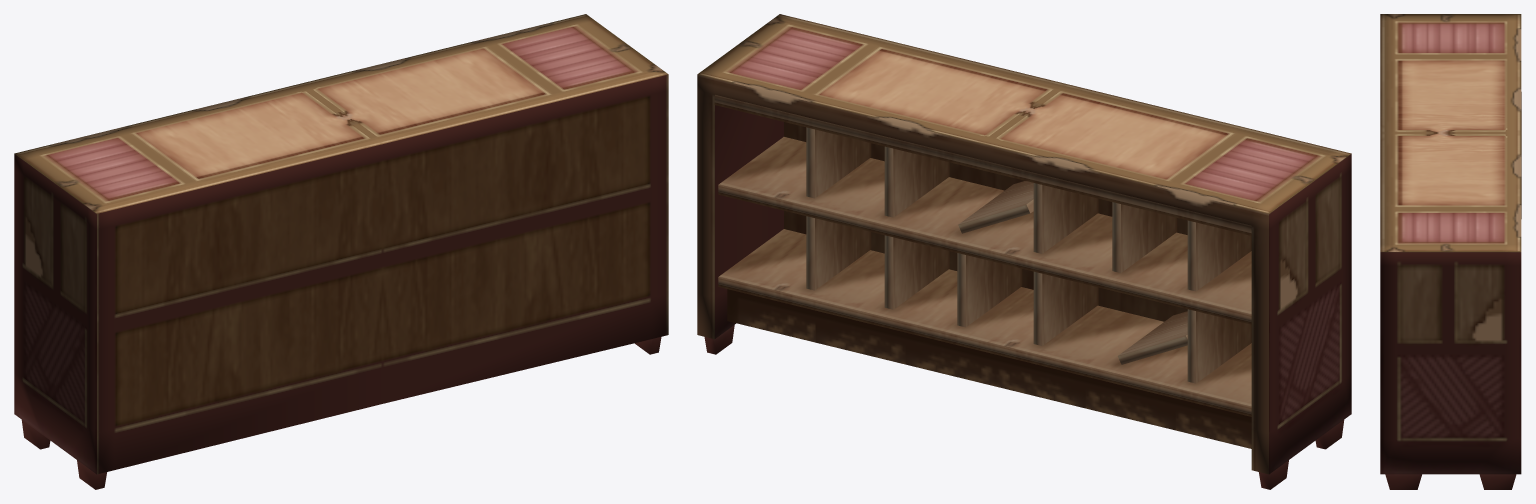
File: a_SWGfoot01b.glb
The picture shows the model from 3 angles, left to right: view 1: azimuth 30°, elevation 25°; view 2: azimuth 150°, elevation 25°; view 3: azimuth 270°, elevation 25°; orthographic projection. The views are drawn at different scales.
Visible parts, largest first — view 1: a_SWGfoot01b; view 2: a_SWGfoot01b; view 3: a_SWGfoot01b.
Part boxes in pixels (x1=…): a_SWGfoot01b: x1=14, y1=14, x2=668, y2=489; a_SWGfoot01b: x1=697, y1=14, x2=1351, y2=489; a_SWGfoot01b: x1=1380, y1=14, x2=1521, y2=489.
Bounding box in the file's own units: 2.8 × 1.32 × 0.701.
1 material, 1 textured.
